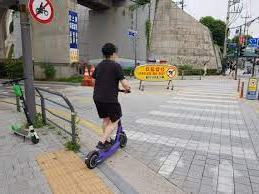nonhelmet: (83, 41, 132, 171)
